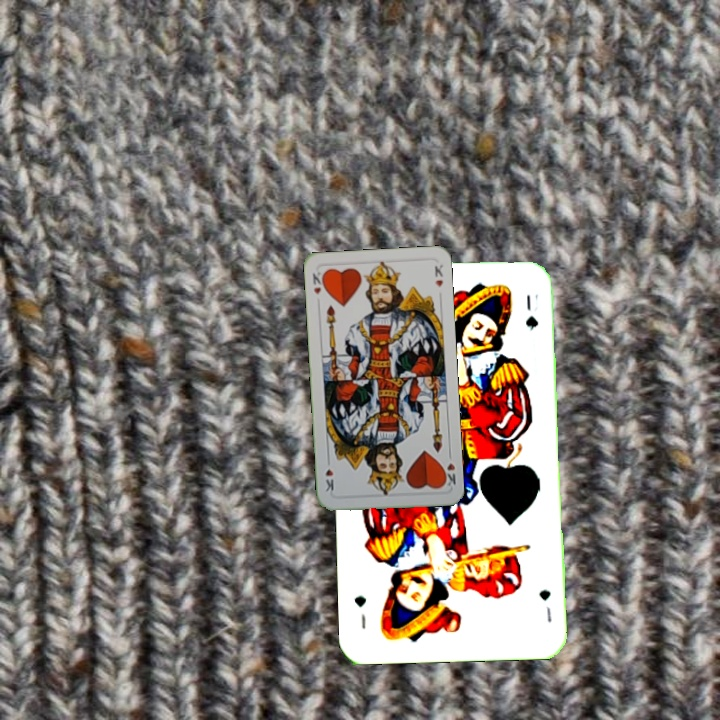GU: (535, 586, 554, 625)
HK: (438, 459, 458, 489), (308, 268, 327, 297)
